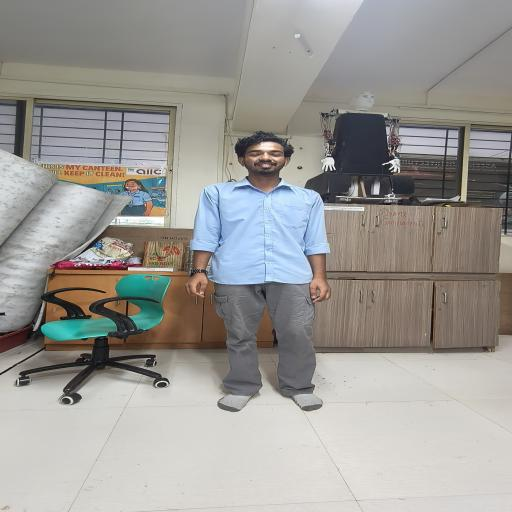survivor: (184, 131, 332, 413)
